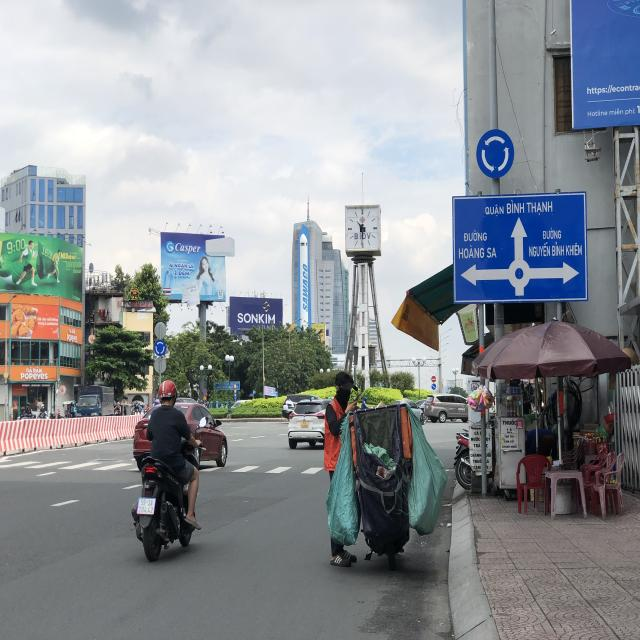Bien bao noi giao nhau chay theo vong xuyen: (474, 125, 517, 182), (154, 339, 168, 357)
